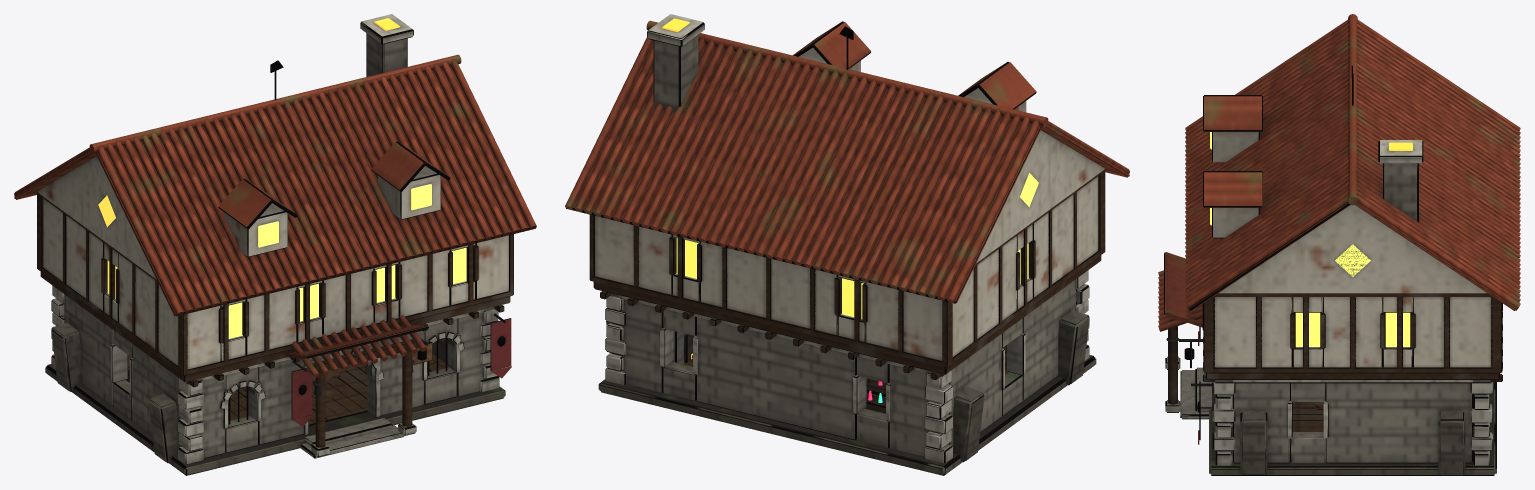
File: edificio_taverna_grande.glb
3 renders of one model, left to right at view 1: azimuth 30°, elevation 25°; view 2: azimuth 150°, elevation 25°; view 3: azimuth 270°, elevation 25°, orthographic. The views are drawn at different scales.
Visible parts, largest first — view 1: edificio_taverna_grande_superior, edificio_taverna_grande; view 2: edificio_taverna_grande_superior, edificio_taverna_grande; view 3: edificio_taverna_grande_superior, edificio_taverna_grande.
Part boxes in pixels (box(x1,y1,x2,y2)): edificio_taverna_grande_superior: box(14, 14, 536, 387); edificio_taverna_grande: box(45, 285, 511, 475); edificio_taverna_grande_superior: box(565, 14, 1129, 379); edificio_taverna_grande: box(598, 270, 1096, 475); edificio_taverna_grande_superior: box(1185, 14, 1520, 381); edificio_taverna_grande: box(1158, 252, 1496, 475).
Bounding box in the file's own units: 14.4 × 12.2 × 12.08.
7 materials, 2 textured.
